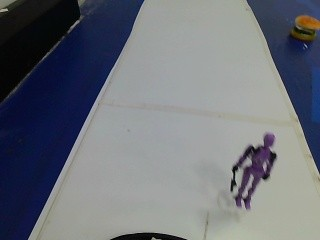burger: (289, 13, 318, 43)
pedestrian: (218, 126, 279, 218)
